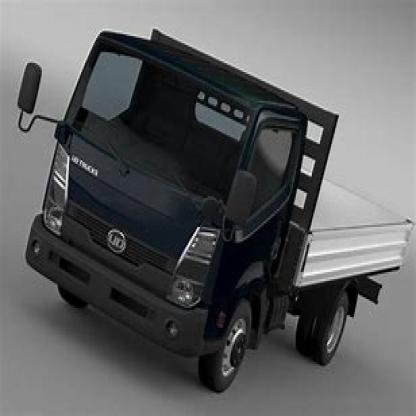dump_truck: (22, 14, 414, 392)
